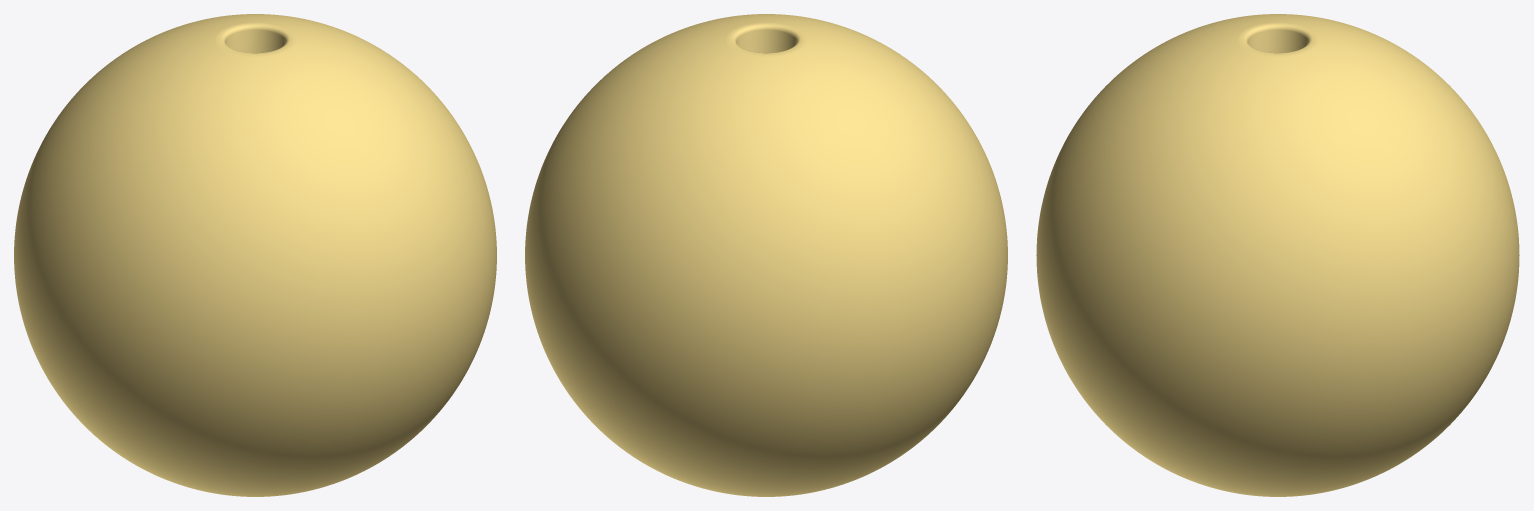
Rendered from citrine-clear-8mm.glb.
3 renders of one model, left to right at view 1: azimuth 30°, elevation 25°; view 2: azimuth 150°, elevation 25°; view 3: azimuth 270°, elevation 25°, orthographic.
Visible parts, largest first — view 1: 冰透黄水晶; view 2: 冰透黄水晶; view 3: 冰透黄水晶.
Boxes of the visible parts, left/top/right/bottom form: 冰透黄水晶: left=14, top=14, right=496, bottom=496; 冰透黄水晶: left=525, top=14, right=1007, bottom=496; 冰透黄水晶: left=1036, top=14, right=1519, bottom=496.
Bounding box in the file's own units: 0.008 × 0.00792 × 0.008.
